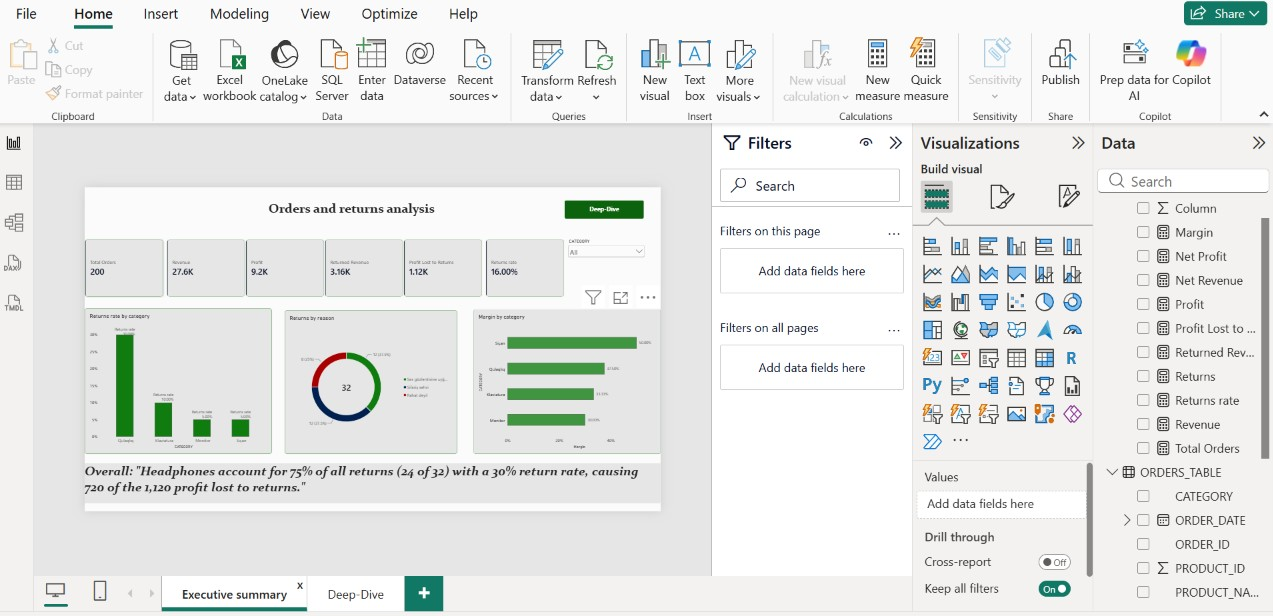

This screenshot's page, from the dashboard's own definition file:
{"tool":"powerbi","page":{"name":"Executive summary","canvas":[1920,1080],"ordinal":0},"visuals":[{"type":"textbox","box":[402.5,39.7,725.7,85],"z":0},{"type":"cardVisual","title":"Total orders","fields":{"Data":["Hesablamalar.Total Orders"]},"box":[0,172.9,263.6,192.8],"z":1},{"type":"cardVisual","fields":{"Data":["Hesablamalar.Mənfəət"]},"box":[535.8,172.9,263.6,192.8],"z":2},{"type":"cardVisual","fields":{"Data":["Hesablamalar.Returns rate"]},"box":[1335.1,172.9,263.6,192.8],"z":3},{"type":"cardVisual","fields":{"Data":["Hesablamalar.Gəlir"]},"box":[272.1,172.9,263.6,192.8],"z":4},{"type":"donutChart","title":"Returns by reason","fields":{"Category":["returns.reason"],"Y":["Hesablamalar.Returns"]},"box":[666.7,408.3,575,477.8],"z":5},{"type":"barChart","title":"Margin by category","fields":{"Category":["ORDERS_TABLE.CATEGORY"],"Y":["Hesablamalar.Marja"]},"box":[1295.4,405.4,623.6,481.9],"z":6},{"type":"clusteredColumnChart","title":"Returns rate by category","fields":{"Category":["ORDERS_TABLE.CATEGORY"],"Y":["Hesablamalar.Returns rate"]},"box":[0,402.5,623.6,484.7],"z":7},{"type":"cardVisual","fields":{"Data":["Hesablamalar.Qaytarililan gəlir"]},"box":[799.4,172.9,263.6,192.8],"z":9},{"type":"cardVisual","fields":{"Data":["Hesablamalar.Qaytarılmadan itirilən mənfəət"]},"box":[1063,172.9,263.6,192.8],"z":10},{"type":"textbox","box":[0,918.4,1919.1,133.2],"z":11},{"type":"textbox","box":[1769.4,0,150,83.3],"z":12},{"type":"actionButton","box":[1600,41.7,263.9,61.1],"z":13},{"type":"slicer","fields":{"Values":["ORDERS_TABLE.CATEGORY"]},"box":[1607.3,170.1,263.6,99.2],"z":14}]}

Visuals, with their boxes on the page's 1920x1080 design canvas (x1, y1, x2, y2). These are canvas units, not pixel positions in the 1273x616 screenshot, which may show the page scaled, cropped or inside an application window:
textbox: 402 40 1128 125
"Total orders" cardVisual: 0 173 264 366
cardVisual - Hesablamalar.Mənfəət: 536 173 799 366
cardVisual - Hesablamalar.Returns rate: 1335 173 1599 366
cardVisual - Hesablamalar.Gəlir: 272 173 536 366
"Returns by reason" donutChart: 667 408 1242 886
"Margin by category" barChart: 1295 405 1919 887
"Returns rate by category" clusteredColumnChart: 0 402 624 887
cardVisual - Hesablamalar.Qaytarililan gəlir: 799 173 1063 366
cardVisual - Hesablamalar.Qaytarılmadan itirilən mənfəət: 1063 173 1327 366
textbox: 0 918 1919 1052
textbox: 1769 0 1919 83
actionButton: 1600 42 1864 103
slicer - ORDERS_TABLE.CATEGORY: 1607 170 1871 269
